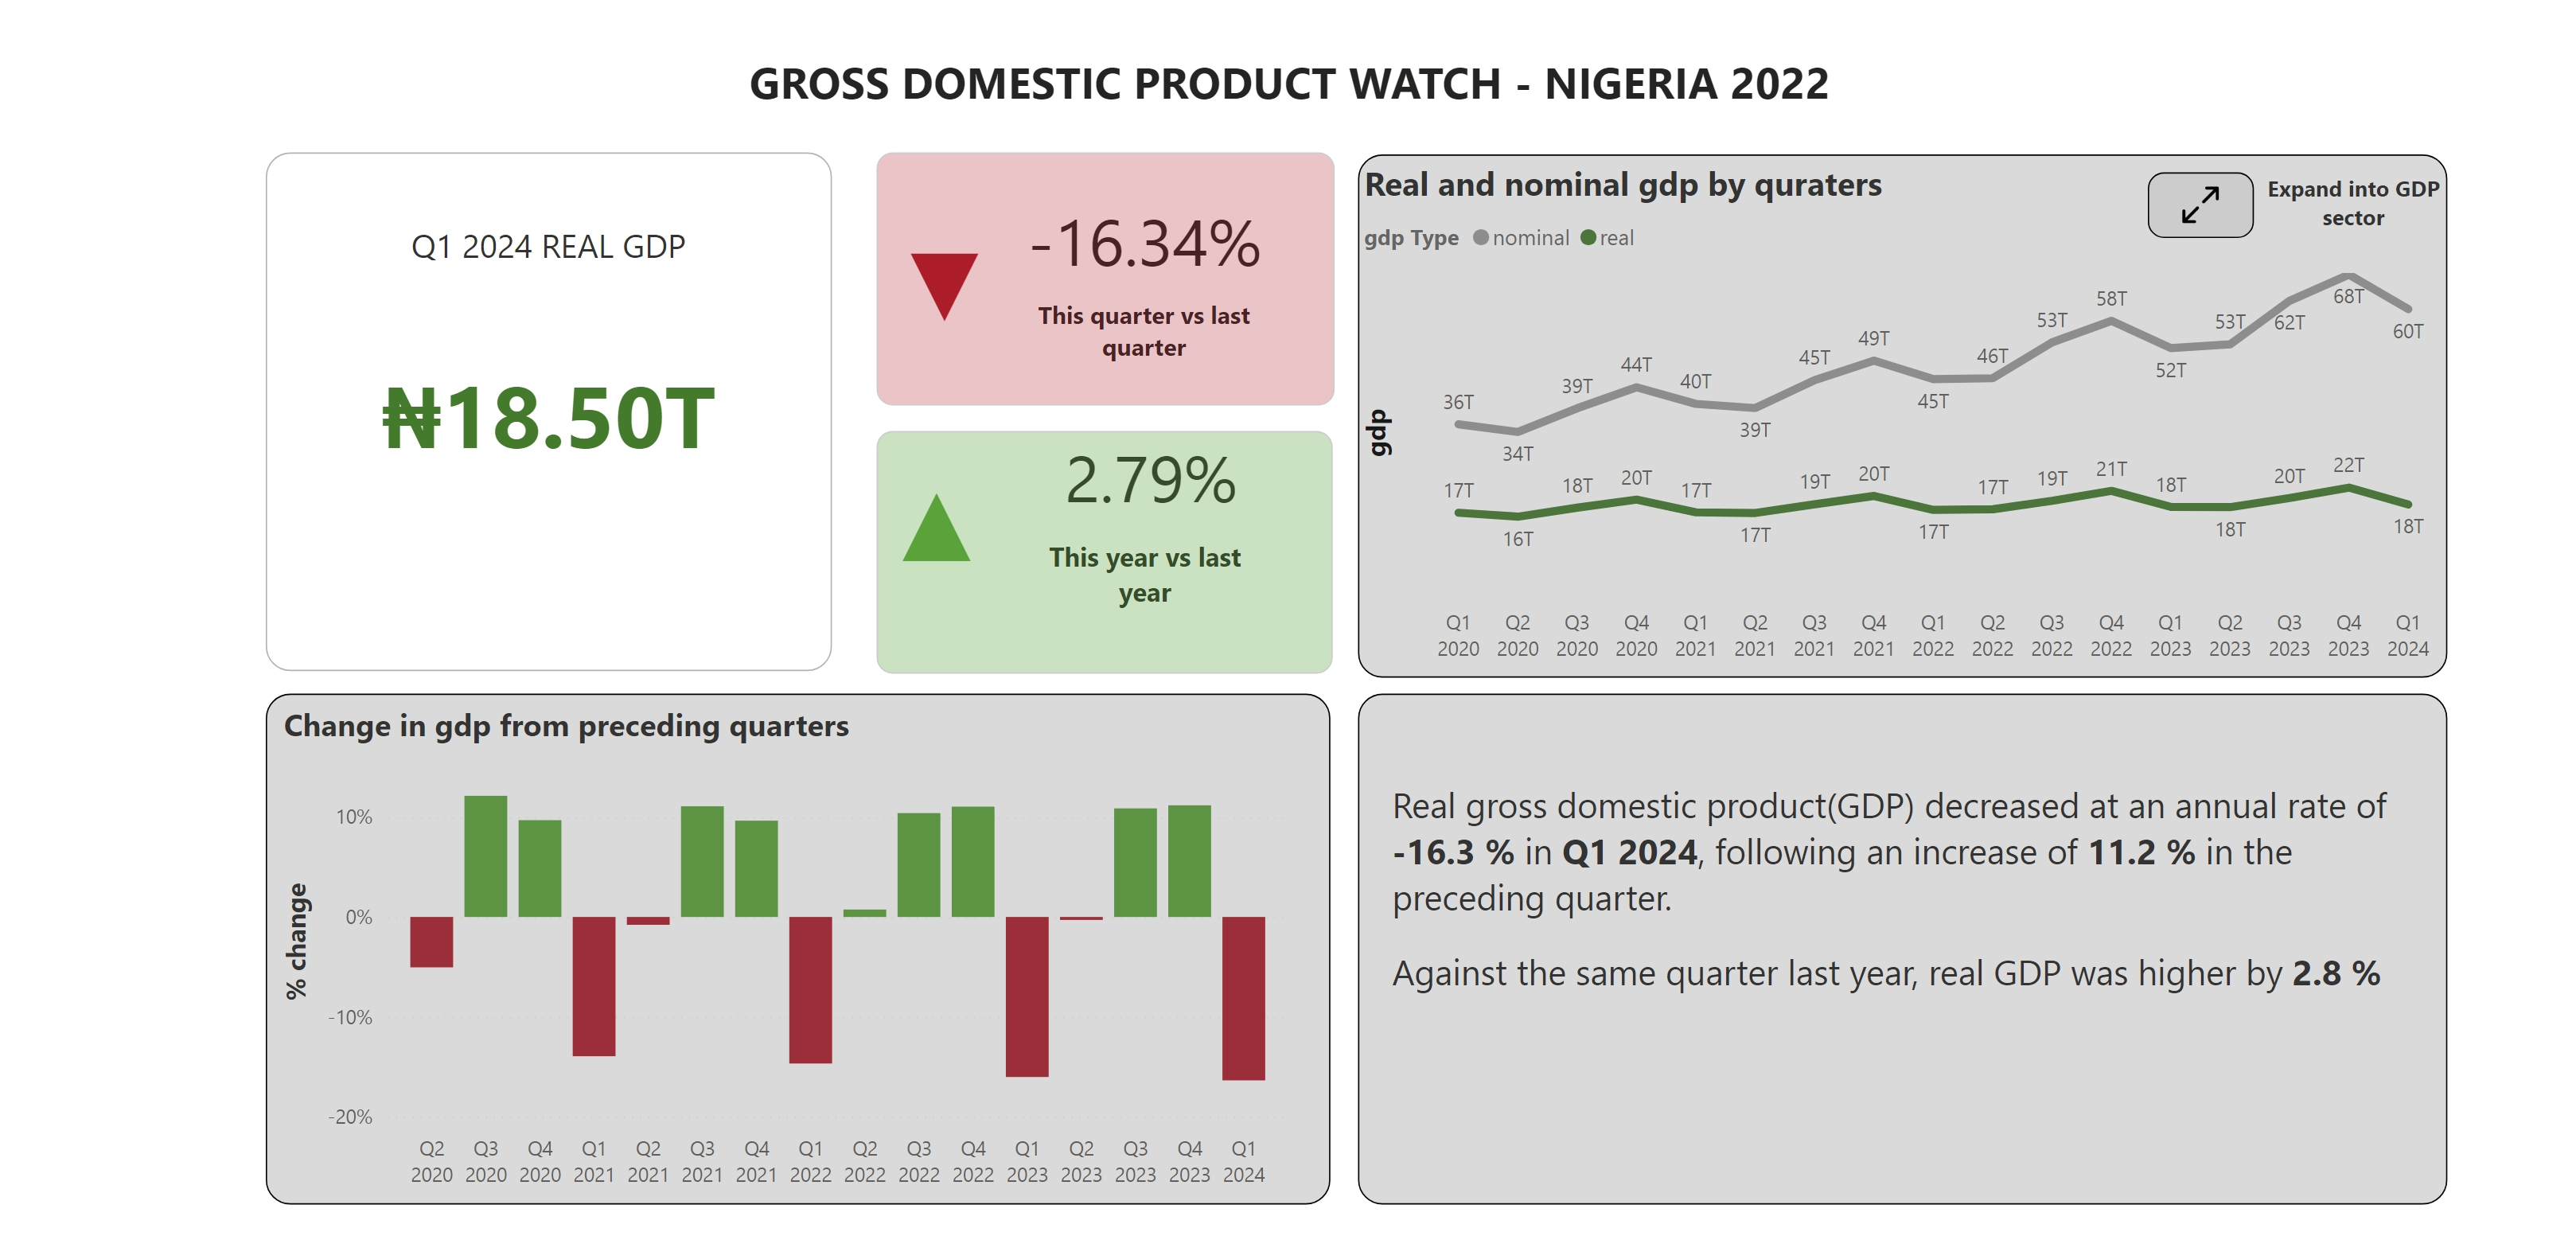

What the dashboard file says about the page in this screenshot:
{"tool":"powerbi","page":{"name":"Dashboard","canvas":[1366,768],"ordinal":0},"visuals":[{"type":"lineChart","fields":{"Category":["Date Table.Quarter Year"],"Y":["measures..current real gdp"],"Series":["gdp by activity sector.activity sector other"]},"box":[683.9,95.5,673,653.5],"z":0,"group":"g5"},{"type":"lineChart","title":"Real and nominal gdp by quraters","fields":{"Y":["measures..gdp"],"Series":["GDP.GDP Type"],"Category":["Date Table.Quarter Year"]},"box":[684.9,106.3,668.2,315.6],"z":0,"group":"g3"},{"type":"card","title":"YoY Indicator","fields":{"Values":["measures..YoY Indicator"]},"box":[392,273.1,70.8,104.7],"z":0,"group":"g4"},{"type":"group","id":"g1","title":"%QoQ by Qtr Year","box":[15.1,434,654.4,314.1],"z":0},{"type":"clusteredColumnChart","title":"Change in gdp from preceding quarters","fields":{"Category":["Date Table.Quarter Year"],"Y":["measures..%QoQ"]},"box":[21.2,440.1,626.7,304.9],"z":0,"group":"g1"},{"type":"textbox","title":"gdp Narratives","box":[701.4,464.5,634.8,255.5],"z":0,"group":"g2"},{"type":"image","box":[1292.9,99.1,58.8,51.1],"z":1000,"group":"g5"},{"type":"textbox","title":"Expand Note","box":[1239.7,109.3,116.1,48],"z":1000,"group":"g3"},{"type":"card","title":"QoQ indicator","fields":{"Values":["measures..QoQ Indicator"]},"box":[396.6,125.2,70.8,104.7],"z":1000,"group":"g4"},{"type":"textbox","title":"%QoQ by Q year Background","box":[15.1,434,654.4,314.1],"z":1000,"group":"g1"},{"type":"group","id":"g2","title":"Narrations","box":[686,434,669.8,314.1],"z":1000},{"type":"textbox","title":"Narrative Background","box":[686,434,669.8,314.1],"z":1000,"group":"g2"},{"type":"group","id":"g3","title":"gdp by Q year Type","box":[684.9,102.7,671.3,321.8],"z":2000},{"type":"textbox","title":"GDP By Q Background","box":[686.4,102.7,669.8,321.8],"z":2000,"group":"g3"},{"type":"card","title":"YOY","fields":{"Values":["measures..%YoY"]},"box":[470.5,239.2,175.5,121.6],"z":2000,"group":"g4"},{"type":"group","id":"g4","title":"Q1 real gdp","box":[14.8,97.5,657.5,324.1],"z":3000},{"type":"image","title":"Expand Icon","box":[1171.6,113.9,65,40.3],"z":3000,"group":"g3"},{"type":"textbox","title":"YoY Explanation","box":[478.2,333.1,154,53.9],"z":3000,"group":"g4"},{"type":"group","id":"g5","title":"Group Activity Sector","box":[683.9,95.5,673,653.5],"z":4000},{"type":"textbox","title":"YoY Background","box":[390.5,272.2,280.2,149.4],"z":4000,"group":"g4"},{"type":"textbox","title":"Main Title","box":[306.6,34.1,687.5,46.5],"z":5000},{"type":"card","title":"QoQ","fields":{"Values":["measures..QoQ"]},"box":[456.6,97.5,197.1,113.9],"z":5000,"group":"g4"},{"type":"textbox","title":"Q Explanation text","box":[475.1,185.3,160.1,50.8],"z":6000,"group":"g4"},{"type":"textbox","title":"QoQ Background","box":[390.5,101.3,281.8,155.5],"z":7000,"group":"g4"},{"type":"card","title":"Real GDP","fields":{"Values":["measures..current real gdp"]},"box":[14.8,101.3,348,318.7],"z":8000,"group":"g4"},{"type":"multiRowCard","title":"Real GDP Label","fields":{"Values":["measures..currect quarter text"]},"box":[99.5,139.6,208,42.7],"z":9000,"group":"g4"}]}

Visuals, with their boxes on the page's 1366x768 design canvas (x1, y1, x2, y2). These are canvas units, not pixel positions in the 2576x1236 screenshot, which may show the page scaled, cropped or inside an application window:
lineChart - Date Table.Quarter Year x measures..current real gdp: 684 96 1357 749
"Real and nominal gdp by quraters" lineChart: 685 106 1353 422
"YoY Indicator" card: 392 273 463 378
"%QoQ by Qtr Year" group: 15 434 670 748
"Change in gdp from preceding quarters" clusteredColumnChart: 21 440 648 745
"gdp Narratives" textbox: 701 464 1336 720
image: 1293 99 1352 150
"Expand Note" textbox: 1240 109 1356 157
"QoQ indicator" card: 397 125 467 230
"%QoQ by Q year Background" textbox: 15 434 670 748
"Narrations" group: 686 434 1356 748
"Narrative Background" textbox: 686 434 1356 748
"gdp by Q year Type" group: 685 103 1356 424
"GDP By Q Background" textbox: 686 103 1356 424
"YOY" card: 470 239 646 361
"Q1 real gdp" group: 15 98 672 422
"Expand Icon" image: 1172 114 1237 154
"YoY Explanation" textbox: 478 333 632 387
"Group Activity Sector" group: 684 96 1357 749
"YoY Background" textbox: 390 272 671 422
"Main Title" textbox: 307 34 994 81
"QoQ" card: 457 98 654 211
"Q Explanation text" textbox: 475 185 635 236
"QoQ Background" textbox: 390 101 672 257
"Real GDP" card: 15 101 363 420
"Real GDP Label" multiRowCard: 100 140 308 182
